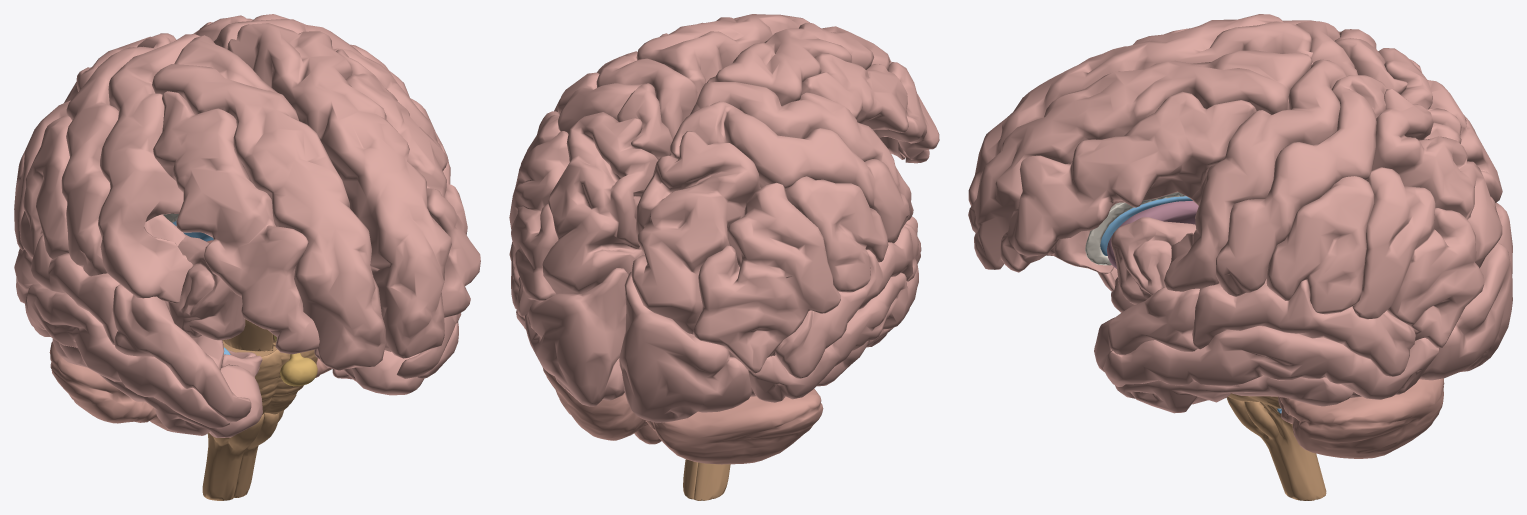
3 views of the same model, side by side, from view 1: azimuth 30°, elevation 25°; view 2: azimuth 150°, elevation 25°; view 3: azimuth 270°, elevation 25° (orthographic). The views are drawn at different scales.
Visible parts, largest first — view 1: s15, s0, s16, s17, s22, s18, s23, s1, s20, s26, s50, s51 (+10 smaller); view 2: s21, s19, s4, s25, s51, s18, s10, s16, s15, s20, s17, s6 (+8 smaller); view 3: s1, s0, s6, s7, s8, s3, s2, s15, s5, s4, s51, s10 (+10 smaller).
Part boxes in pixels (x1=…): s15: x1=152, y1=35, x2=385, y2=370; s0: x1=227, y1=23, x2=451, y2=358; s16: x1=153, y1=91, x2=319, y2=354; s17: x1=98, y1=34, x2=200, y2=303; s22: x1=14, y1=235, x2=251, y2=421; s18: x1=61, y1=33, x2=176, y2=276; s23: x1=25, y1=284, x2=230, y2=428; s1: x1=336, y1=49, x2=480, y2=317; s20: x1=19, y1=116, x2=72, y2=258; s26: x1=164, y1=234, x2=245, y2=340; s50: x1=202, y1=410, x2=283, y2=500; s51: x1=49, y1=341, x2=331, y2=432; s21: x1=693, y1=182, x2=840, y2=373; s19: x1=631, y1=131, x2=760, y2=334; s4: x1=542, y1=112, x2=658, y2=294; s25: x1=619, y1=272, x2=751, y2=423; s51: x1=543, y1=368, x2=823, y2=464; s18: x1=670, y1=101, x2=909, y2=243; s10: x1=524, y1=268, x2=628, y2=406; s16: x1=801, y1=53, x2=939, y2=163; s15: x1=706, y1=23, x2=904, y2=159; s20: x1=785, y1=176, x2=888, y2=292; s17: x1=690, y1=82, x2=913, y2=220; s6: x1=509, y1=131, x2=569, y2=316; s1: x1=1000, y1=91, x2=1256, y2=272; s0: x1=968, y1=50, x2=1312, y2=269; s6: x1=1352, y1=167, x2=1484, y2=347; s7: x1=1094, y1=279, x2=1415, y2=376; s8: x1=1103, y1=326, x2=1439, y2=399; s3: x1=1216, y1=75, x2=1388, y2=296; s2: x1=1164, y1=59, x2=1346, y2=291; s15: x1=968, y1=14, x2=1312, y2=206; s5: x1=1266, y1=176, x2=1374, y2=314; s4: x1=1372, y1=89, x2=1502, y2=268; s51: x1=1278, y1=378, x2=1444, y2=458; s10: x1=1419, y1=243, x2=1512, y2=380.
Size of the model in its own units: 133 by 157 by 170.
